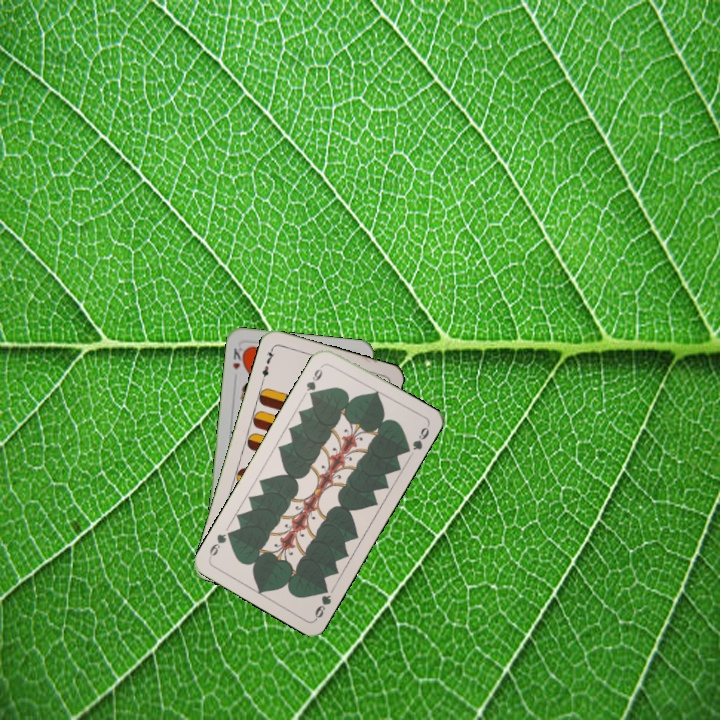E7: (258, 344, 278, 384)
G9: (311, 581, 334, 622), (302, 361, 326, 400)
HK: (228, 344, 248, 372)
